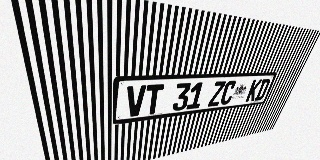1: (186, 82, 205, 110)
3: (172, 83, 192, 111)
C: (219, 80, 237, 105)
D: (254, 79, 271, 101)
K: (245, 79, 262, 102)
T: (144, 84, 164, 115)
V: (126, 85, 146, 117)
Z: (207, 81, 226, 107)
